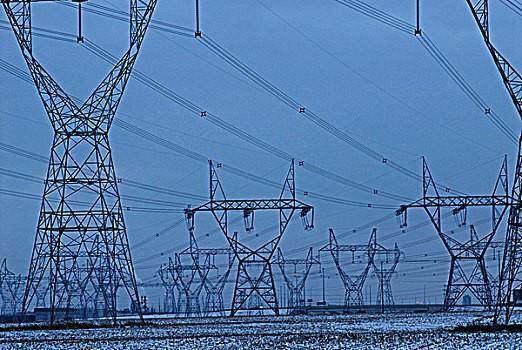power_tower: (5, 0, 166, 323), (183, 157, 318, 312), (395, 156, 512, 313), (320, 222, 384, 314), (185, 228, 240, 310), (274, 243, 318, 306)
